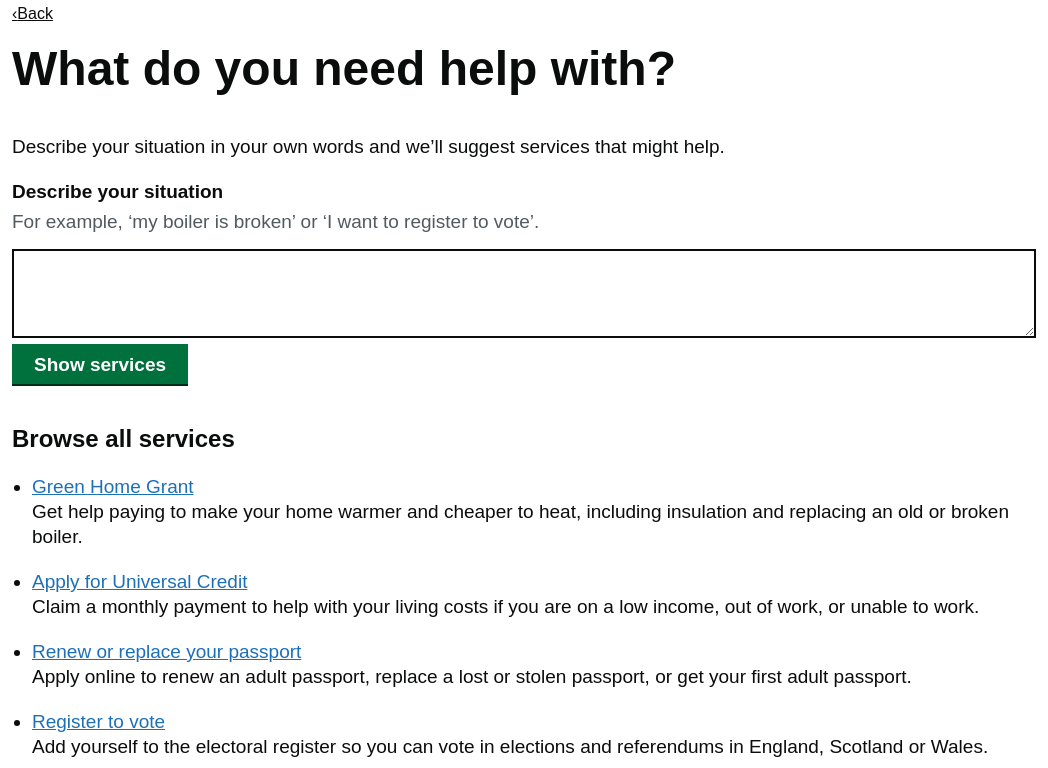
it: HelpEntryPage › 3. after ready, submitting a query ranks intents and renders result cards with badges
Type "my boiler is broken" into the text box labelled "Describe your situation" at (524, 294), box top-left (12, 249), bottom-right (1036, 338)
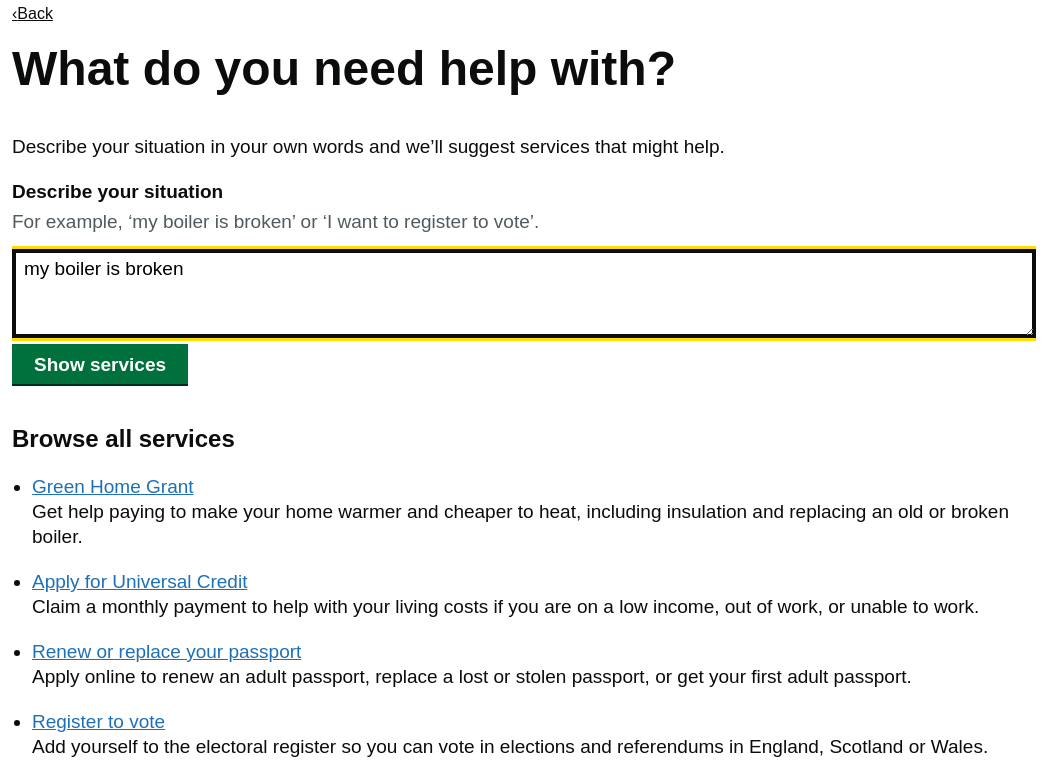
Click the button "Show services" at (100, 364), box top-left (12, 344), bottom-right (188, 384)
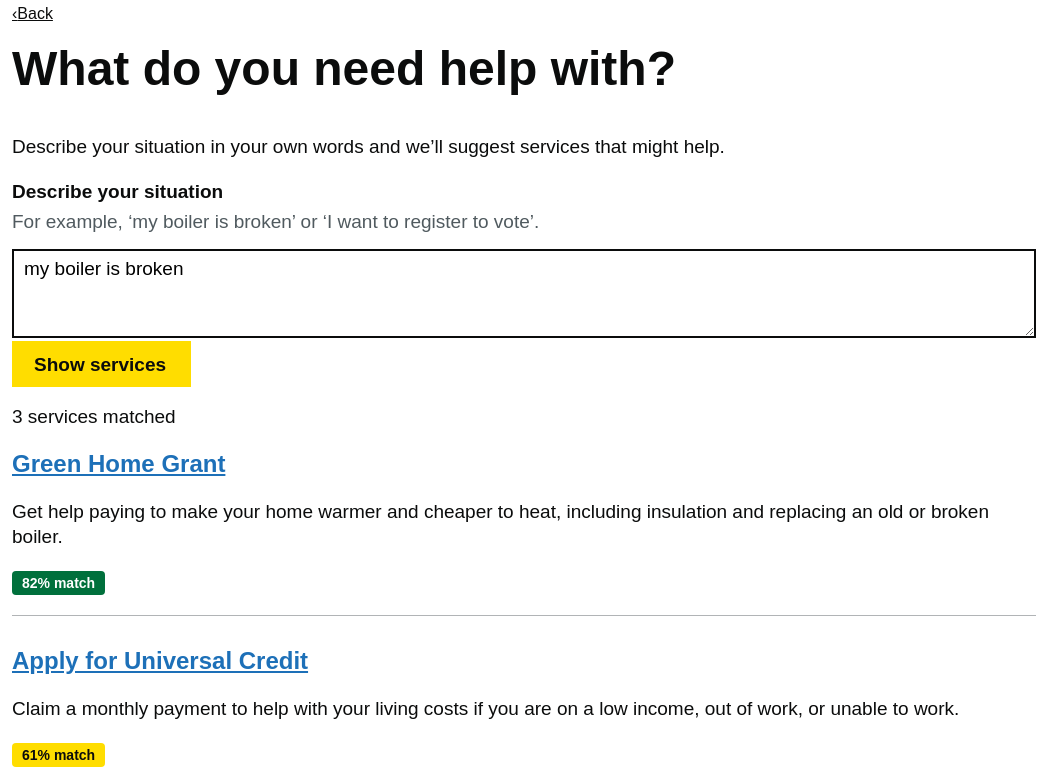
Expected: the text "82% match" is shown 3 times
